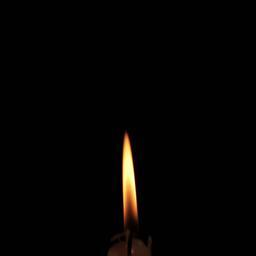fire: (121, 134, 139, 220)
